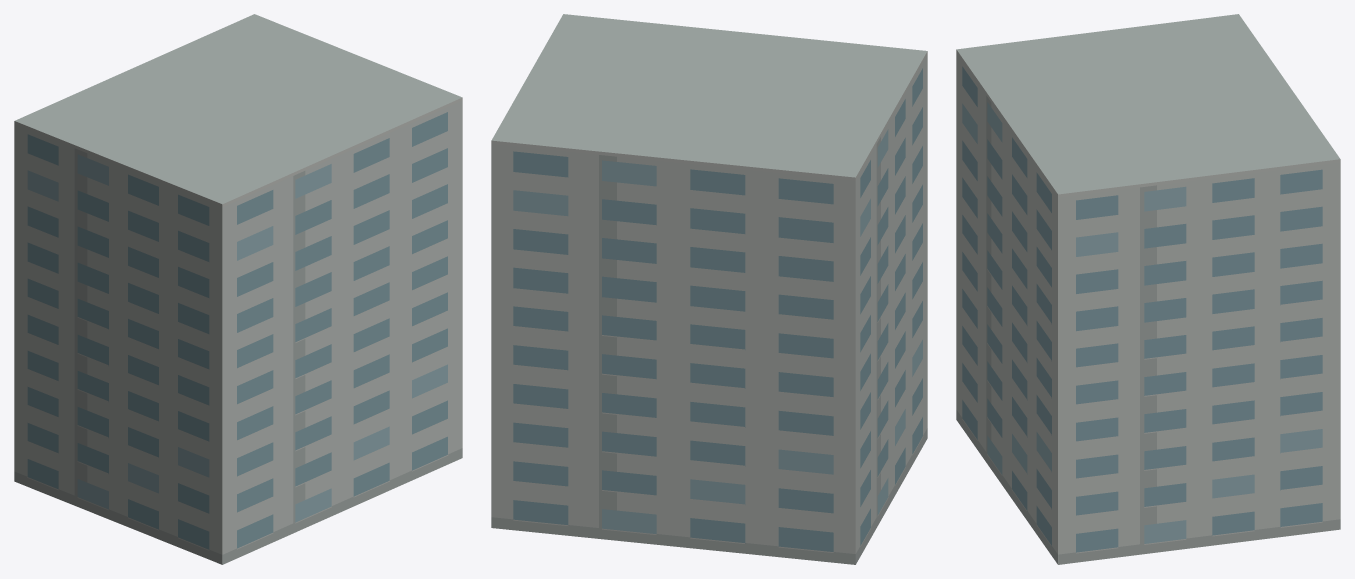
Rendered from residential-b69ff40a-68e5-4803-b3be-09d87121d239.glb.
3 renders of one model, left to right at view 1: azimuth 30°, elevation 25°; view 2: azimuth 150°, elevation 25°; view 3: azimuth 270°, elevation 25°, orthographic. The views are drawn at different scales.
Visible parts, largest first — view 1: residential-b69ff40a-68e5-4803-b3be-09d87121d239.tmp; view 2: residential-b69ff40a-68e5-4803-b3be-09d87121d239.tmp; view 3: residential-b69ff40a-68e5-4803-b3be-09d87121d239.tmp.
Boxes of the visible parts, <box> form: residential-b69ff40a-68e5-4803-b3be-09d87121d239.tmp: <box>14,14,462,564</box>; residential-b69ff40a-68e5-4803-b3be-09d87121d239.tmp: <box>491,14,927,564</box>; residential-b69ff40a-68e5-4803-b3be-09d87121d239.tmp: <box>956,14,1340,564</box>.
Size of the model in its own units: 29.27 by 28 by 26.33.
